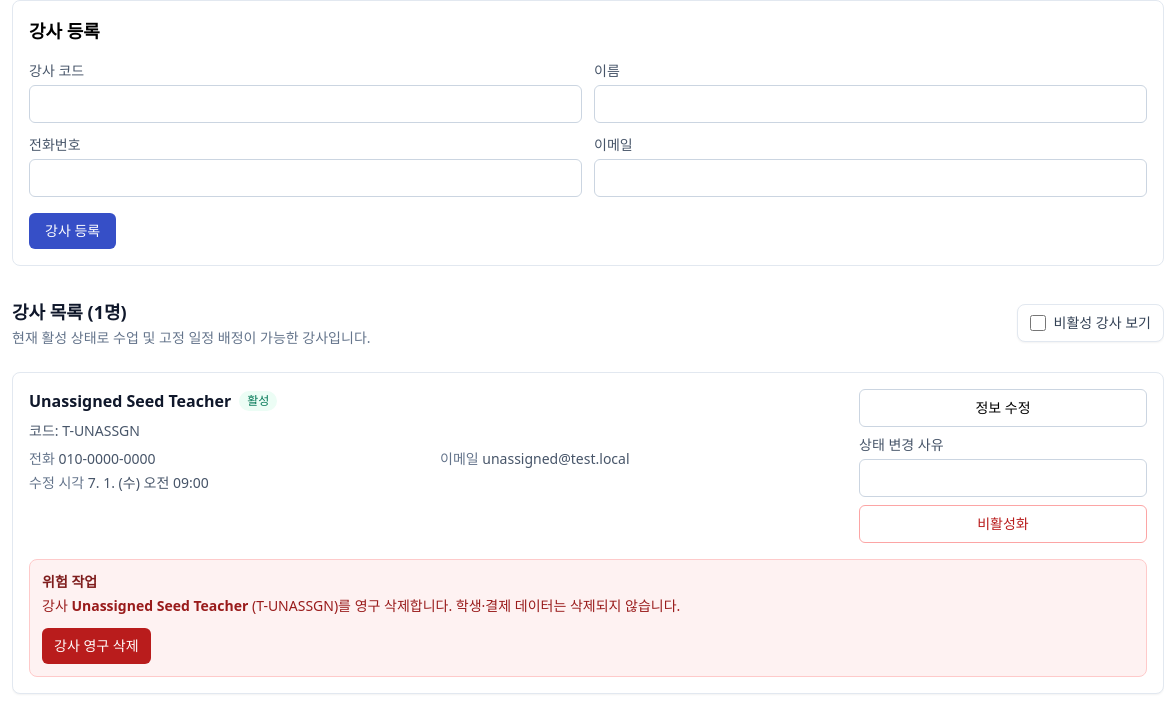
Test case: TeachersPanel › requires confirmation and reason before deactivation
Click the button with test id "teacher-deactivate-T-UNASSGN". click: x=1003, y=524
box: [859,505,1147,543]
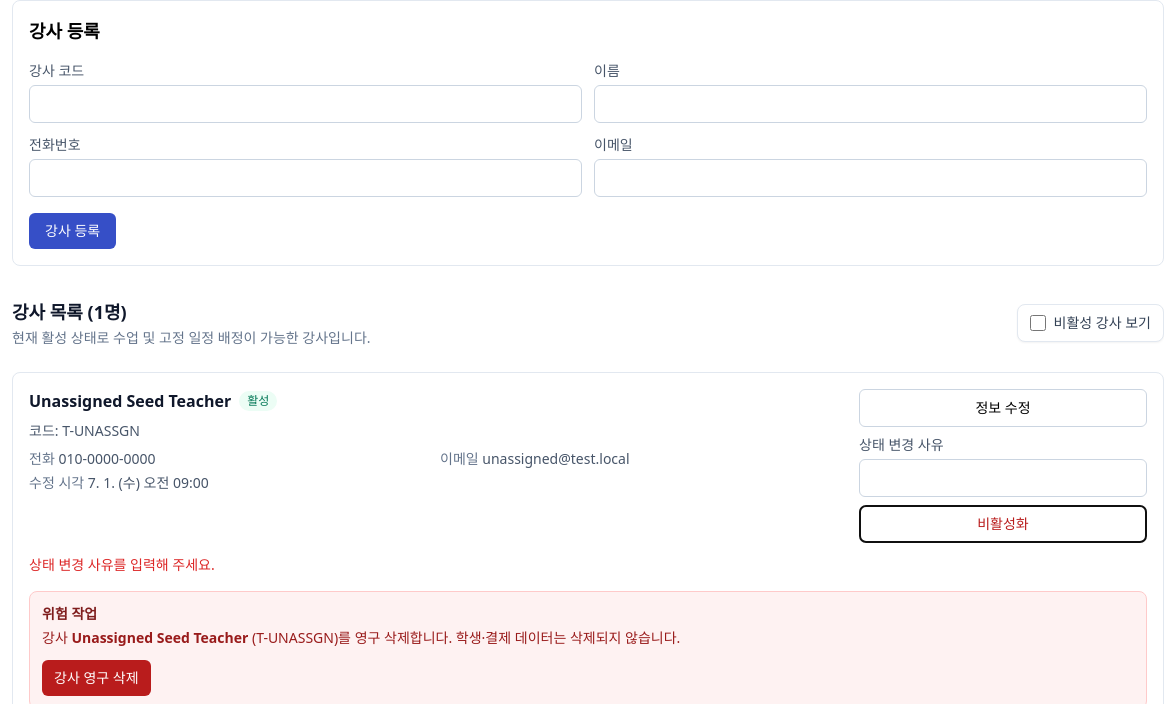
Now the message with test id "teacher-error-T-UNASSGN" shows "사유", box [29,555,215,574]
Type "no longer teaching" into the field with test id "teacher-status-reason-T-UNASSGN". click: x=1003, y=478
box: [859,459,1147,497]
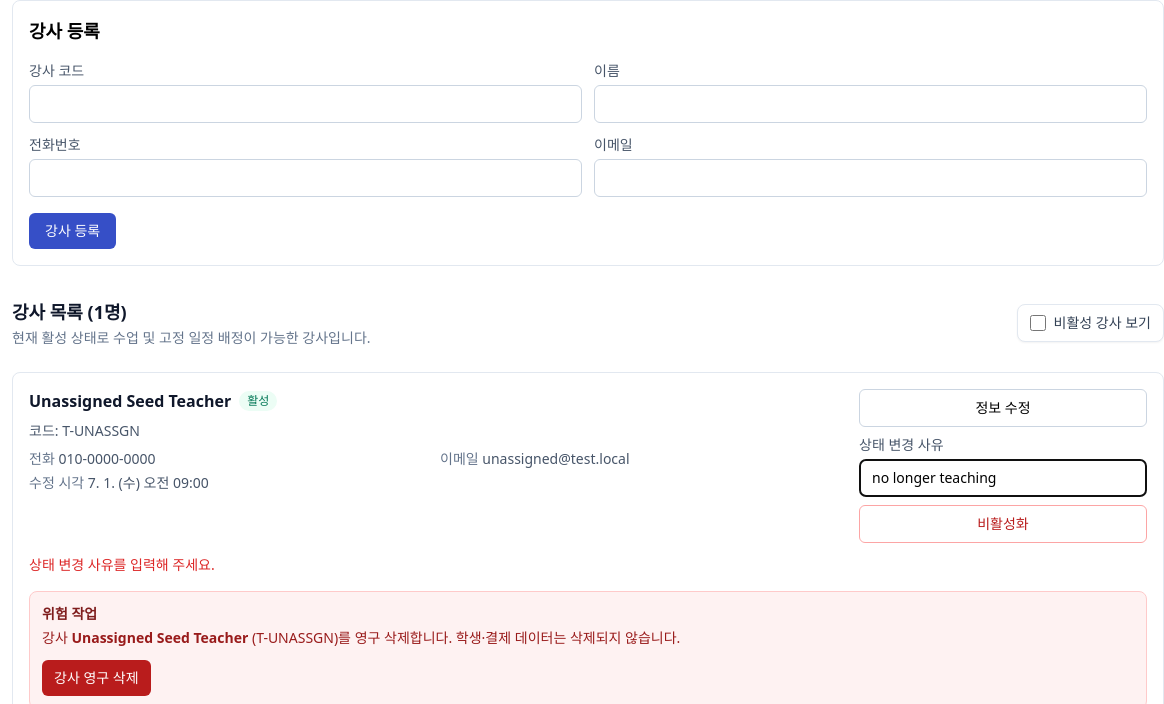
Click the button with test id "teacher-deactivate-T-UNASSGN". click: x=1003, y=524
box: [859,505,1147,543]
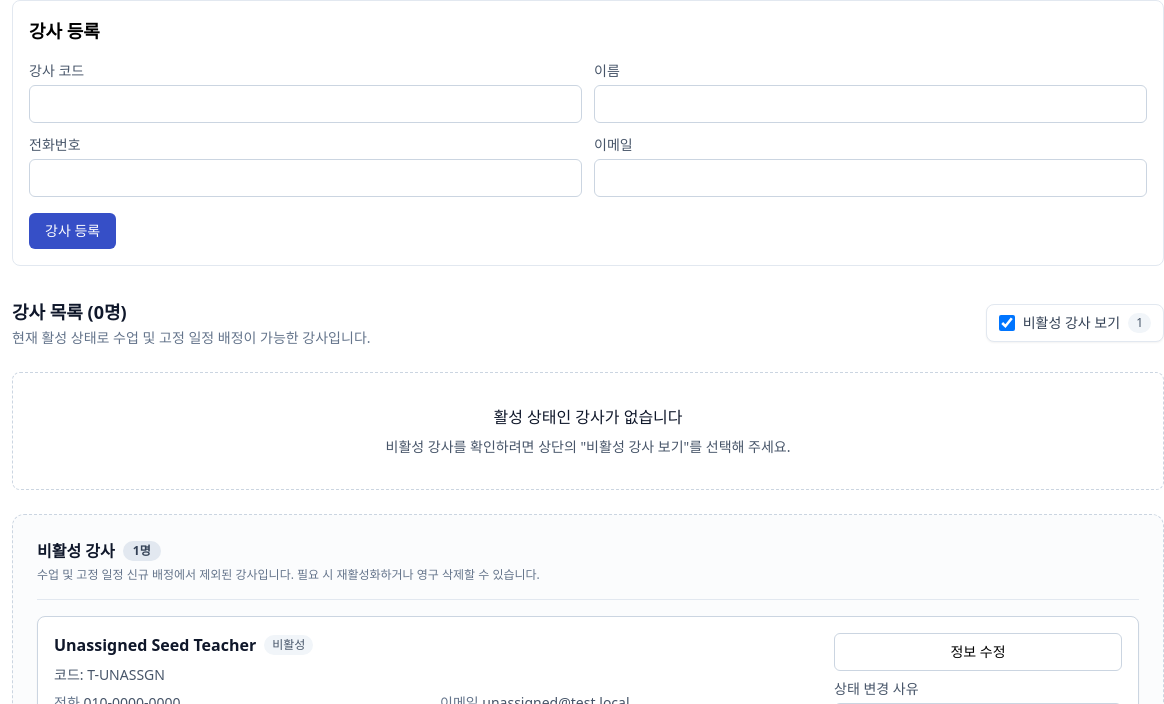
Now the text with test id "teacher-status-T-UNASSGN" reads "비활성", box [272,636,305,653]
